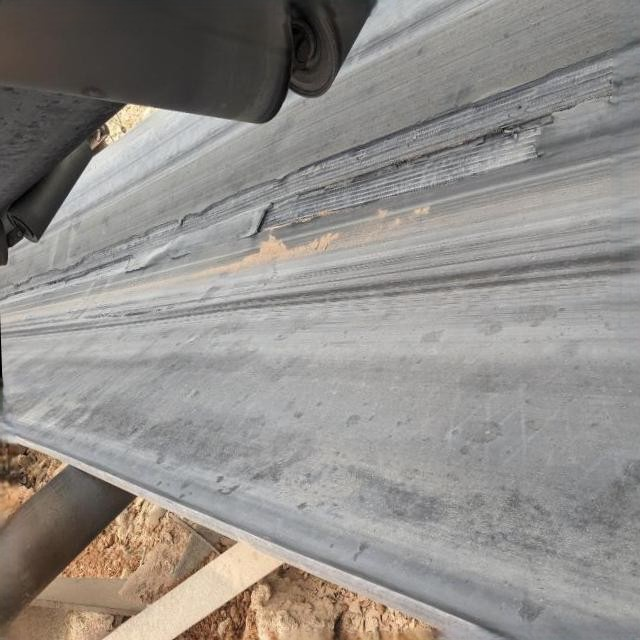Tear: (0, 30, 640, 308)
